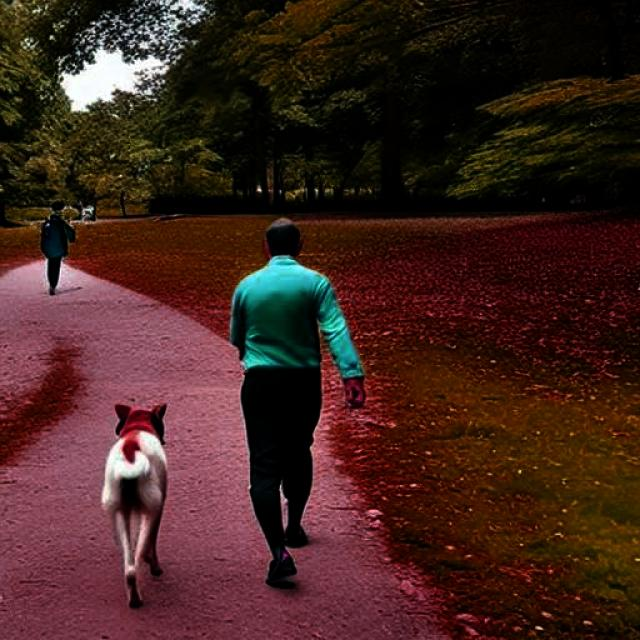Unleashed_Dog: (101, 368, 315, 610)
